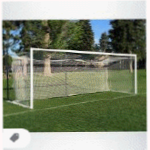goals: (3, 44, 139, 110)
